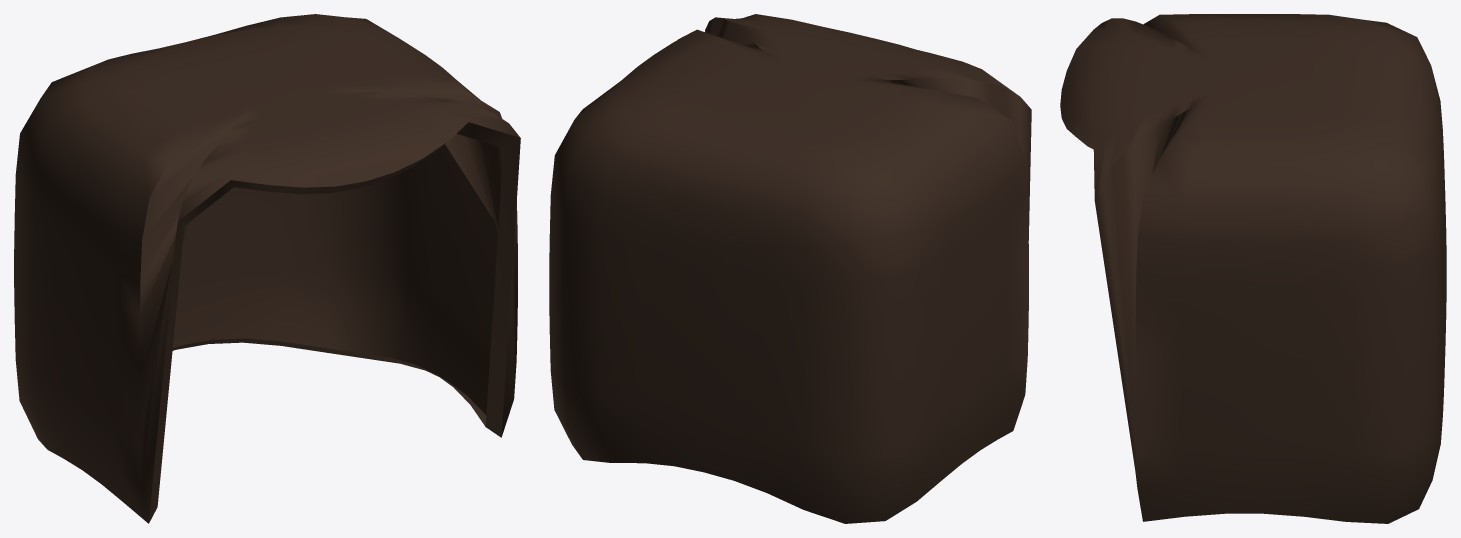
The model's file is Cuerpo_Pelo_Rapado.fbx.
3 views of the same model, side by side, from view 1: azimuth 30°, elevation 25°; view 2: azimuth 150°, elevation 25°; view 3: azimuth 270°, elevation 25° (orthographic). The views are drawn at different scales.
Parts seen in each view (by area): view 1: Cuerpo_Pelo_Rapado; view 2: Cuerpo_Pelo_Rapado; view 3: Cuerpo_Pelo_Rapado.
Boxes of the visible parts, x1,y1,x2,y2 form: Cuerpo_Pelo_Rapado: [14, 14, 520, 523]; Cuerpo_Pelo_Rapado: [549, 14, 1031, 523]; Cuerpo_Pelo_Rapado: [1060, 14, 1446, 523].
Size of the model in its own units: 1.24 by 1.14 by 1.08.
